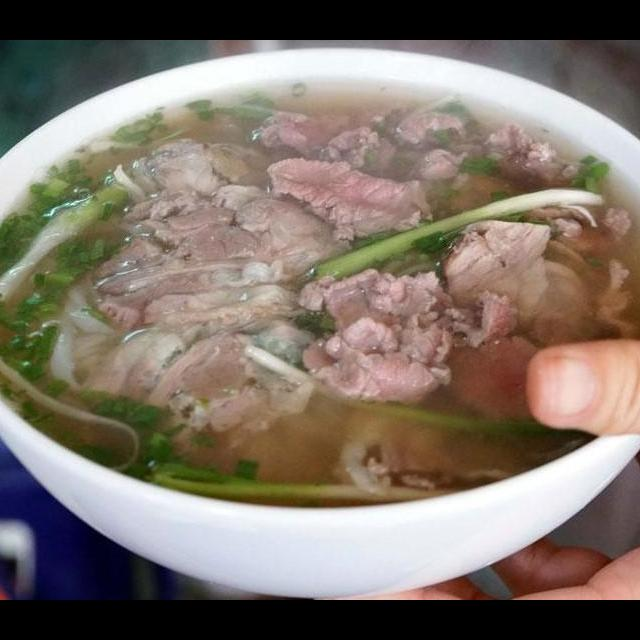thit bo: (80, 190, 366, 342), (110, 133, 366, 279), (75, 312, 332, 446), (292, 260, 464, 413), (470, 113, 638, 261), (258, 149, 436, 253), (434, 211, 556, 354), (247, 101, 416, 185)
